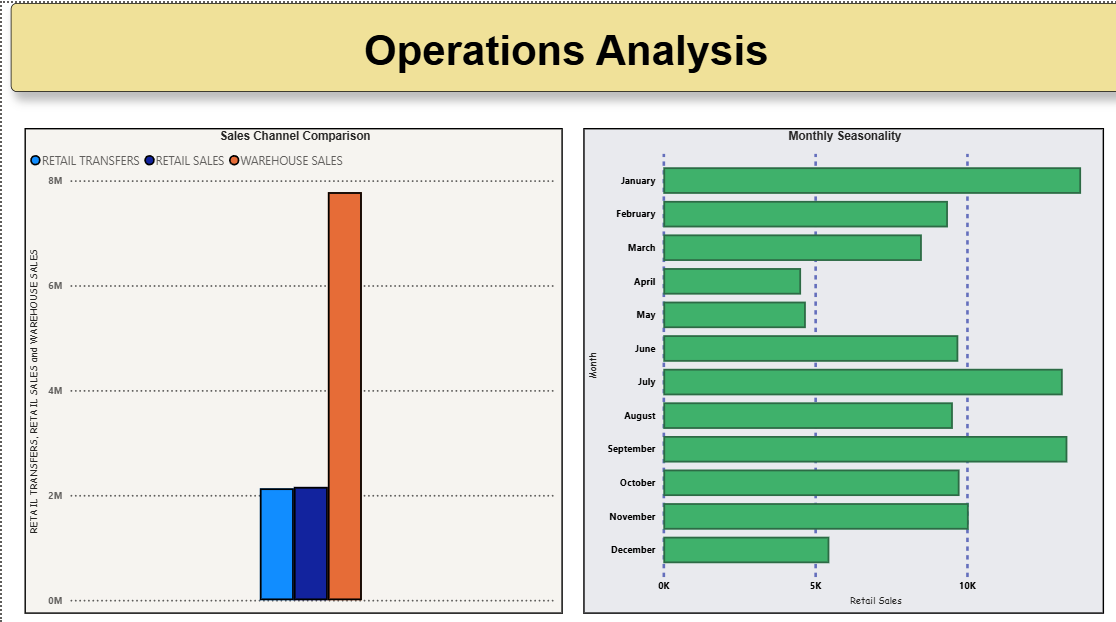

This screenshot's page, from the dashboard's own definition file:
{"tool":"powerbi","page":{"name":"Operations Analysis","canvas":[1280,720],"ordinal":2},"visuals":[{"type":"textbox","title":"E","box":[10,0,1270,101.7],"z":0},{"type":"clusteredColumnChart","title":"Sales Channel Comparison","fields":{"Y":["Sum(cleaned_retail_sales_analysis.RETAIL TRANSFERS)","Sum(cleaned_retail_sales_analysis.RETAIL SALES)","Sum(cleaned_retail_sales_analysis.WAREHOUSE SALES)"]},"box":[25,143.3,615,555],"z":6000},{"type":"barChart","title":"Monthly Seasonality","fields":{"Y":["CountNonNull(cleaned_retail_sales_analysis.RETAIL SALES)"],"Category":["cleaned_retail_sales_analysis.DATE.Variation.Date Hierarchy.Month"]},"box":[665,143.3,595,555],"z":7000}]}

Visuals, with their boxes in screenshot pixels (x1, y1, x2, y2), scaled from the page's 1280x720 canvas onto the 1116x622 screenshot:
"E" textbox: [9, 0, 1115, 88]
"Sales Channel Comparison" clusteredColumnChart: [22, 124, 558, 603]
"Monthly Seasonality" barChart: [580, 124, 1099, 603]
